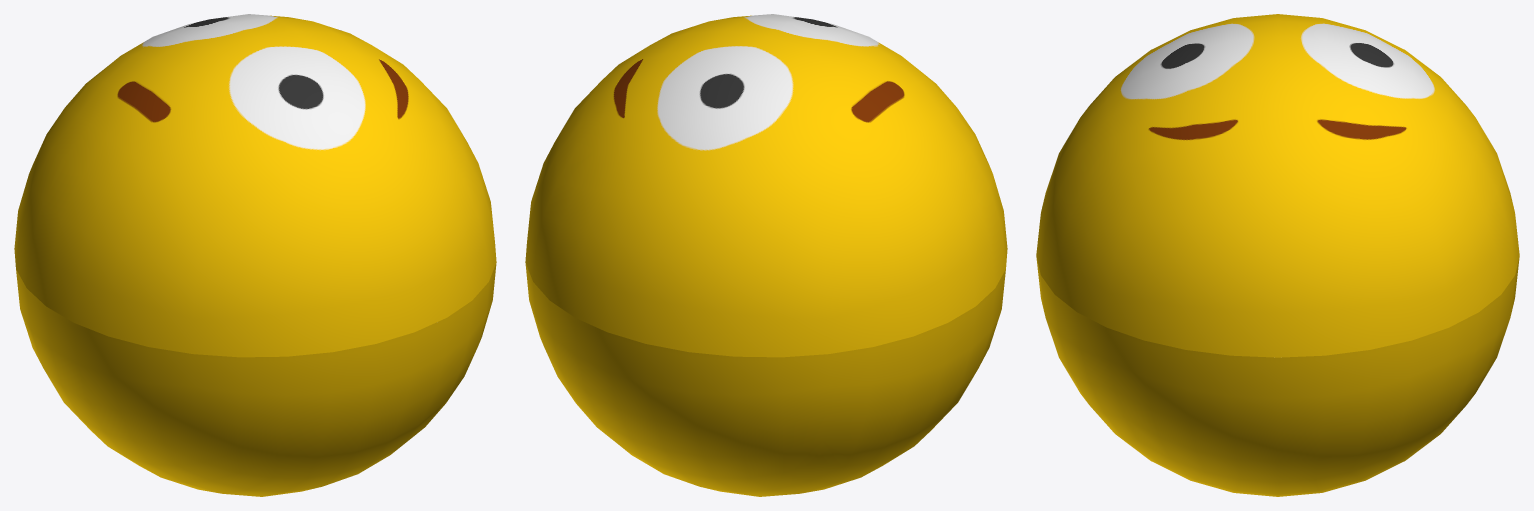
File: New_emoji_pieces.fbx
3 views of the same model, side by side, from view 1: azimuth 30°, elevation 25°; view 2: azimuth 150°, elevation 25°; view 3: azimuth 270°, elevation 25° (orthographic).
Visible parts, largest first — view 1: Emoji_piece_top, Emoji_piece_bottom; view 2: Emoji_piece_top, Emoji_piece_bottom; view 3: Emoji_piece_top, Emoji_piece_bottom.
Boxes of the visible parts, left/top/right/bottom form: Emoji_piece_top: left=14, top=14, right=496, bottom=357; Emoji_piece_bottom: left=16, top=262, right=496, bottom=496; Emoji_piece_top: left=525, top=14, right=1007, bottom=357; Emoji_piece_bottom: left=525, top=262, right=1005, bottom=496; Emoji_piece_top: left=1036, top=14, right=1519, bottom=357; Emoji_piece_bottom: left=1036, top=256, right=1519, bottom=496.
Size of the model in its own units: 693 by 693 by 693.
